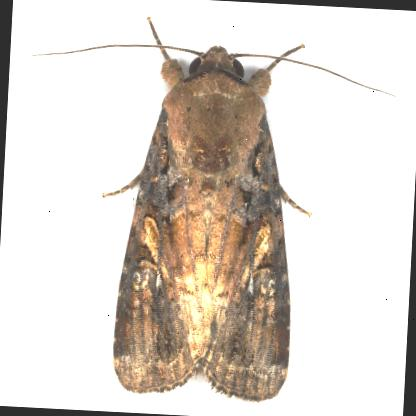Fall Armyworm Moth: (10, 7, 402, 413)
